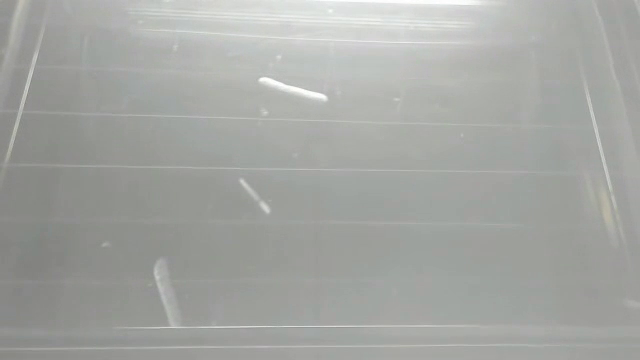alpha: (147, 252, 187, 330), (256, 71, 330, 106), (233, 173, 276, 220)
